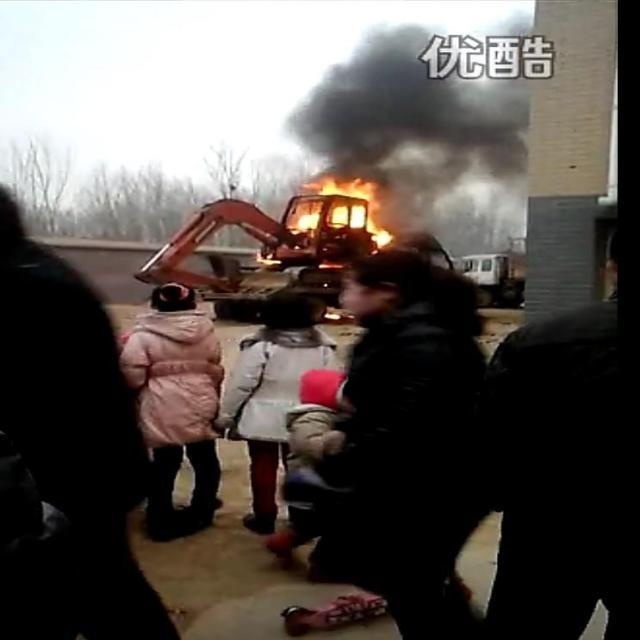Fire: (252, 176, 396, 270)
Smoke: (285, 8, 534, 176)
